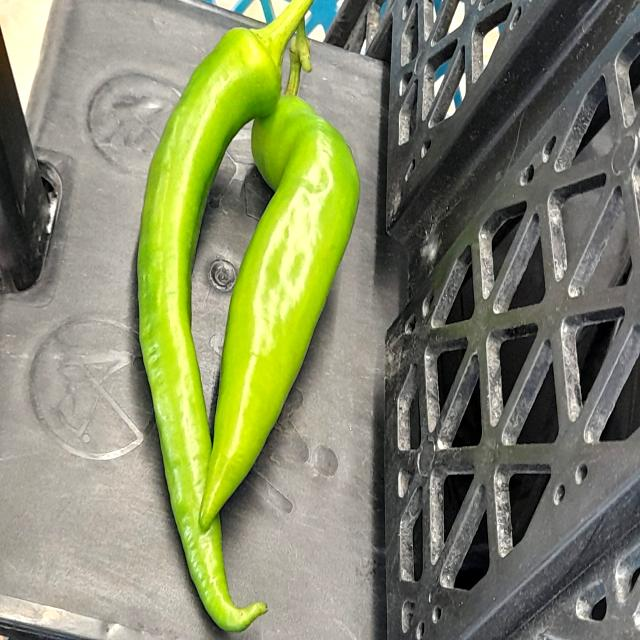green pepper: (126, 0, 306, 640), (190, 73, 391, 529)
